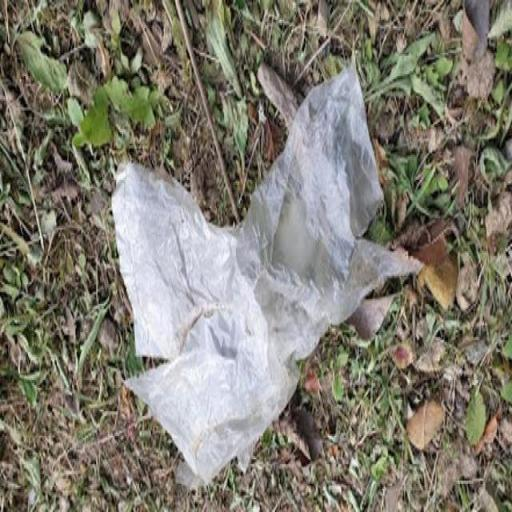plastic-bag: (110, 39, 422, 496)
